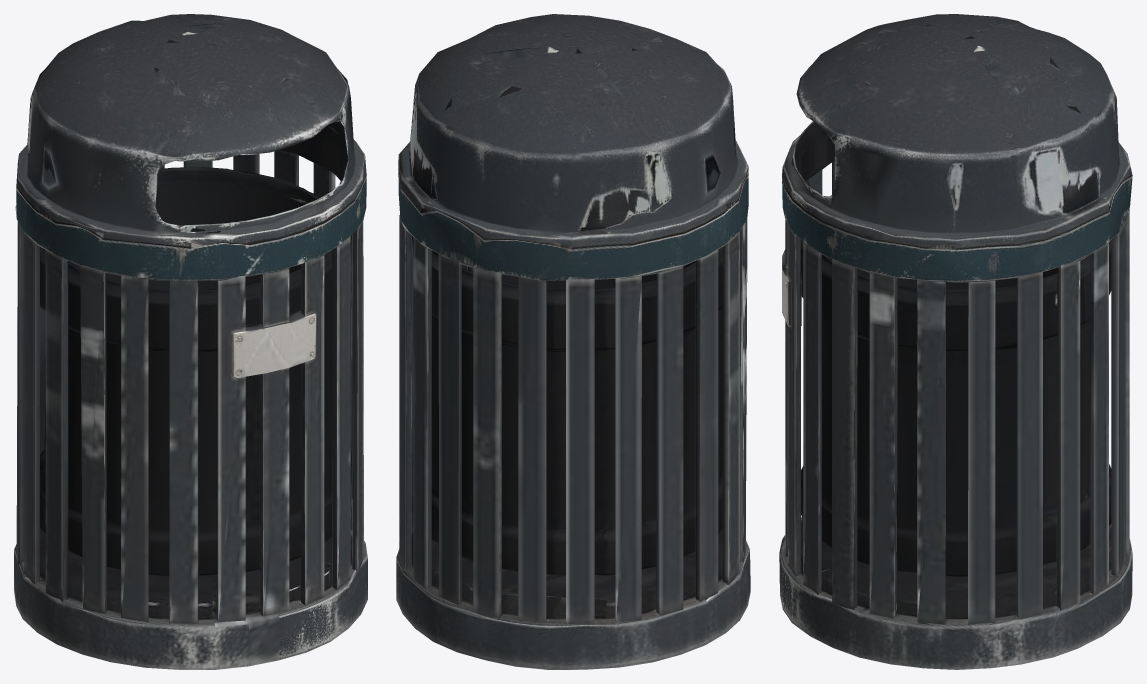
File: trash-can-t25.glb
3 views of the same model, side by side, from view 1: azimuth 30°, elevation 25°; view 2: azimuth 150°, elevation 25°; view 3: azimuth 270°, elevation 25° (orthographic).
Visible parts, largest first — view 1: trash-can-t25; view 2: trash-can-t25; view 3: trash-can-t25.
Boxes of the visible parts, x1,y1,x2,y2 form: trash-can-t25: (14, 14, 367, 669); trash-can-t25: (396, 14, 750, 669); trash-can-t25: (779, 14, 1132, 669).
Size of the model in its own units: 0.55 by 0.95 by 0.55.
1 material, 1 textured.
